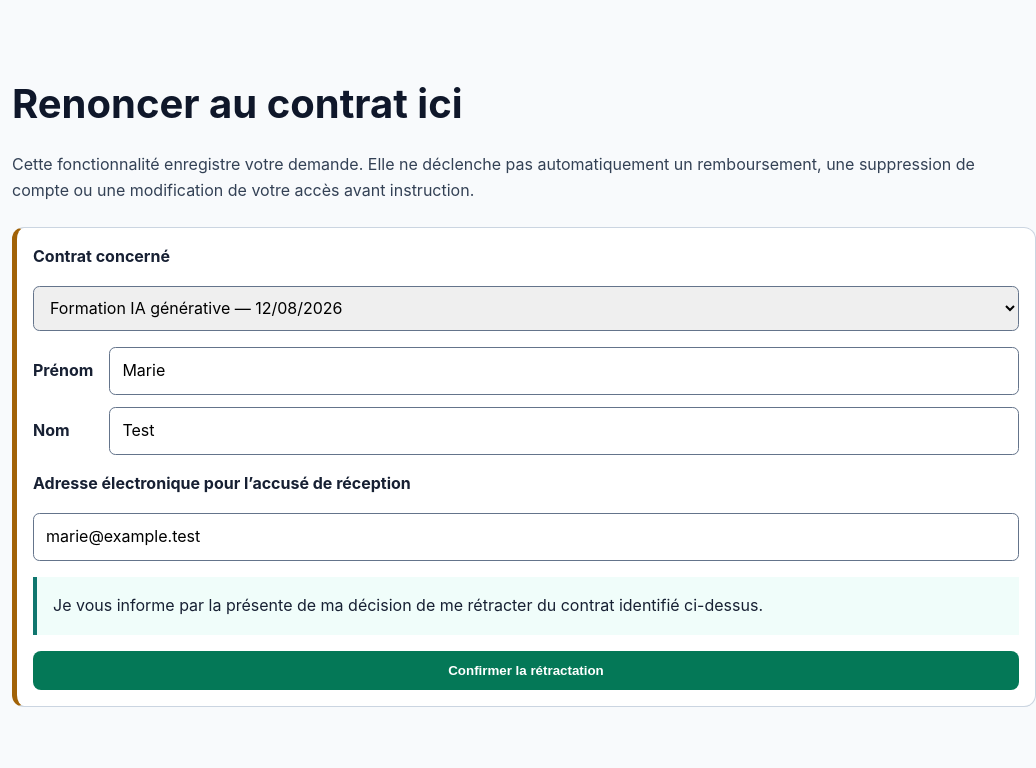
Scenario: rétractation électronique › ne fabrique pas un succès lorsque la fonction serveur échoue
Click the button "Confirmer la rétractation" at [526, 670], box top-left (33, 651), bottom-right (1019, 690)
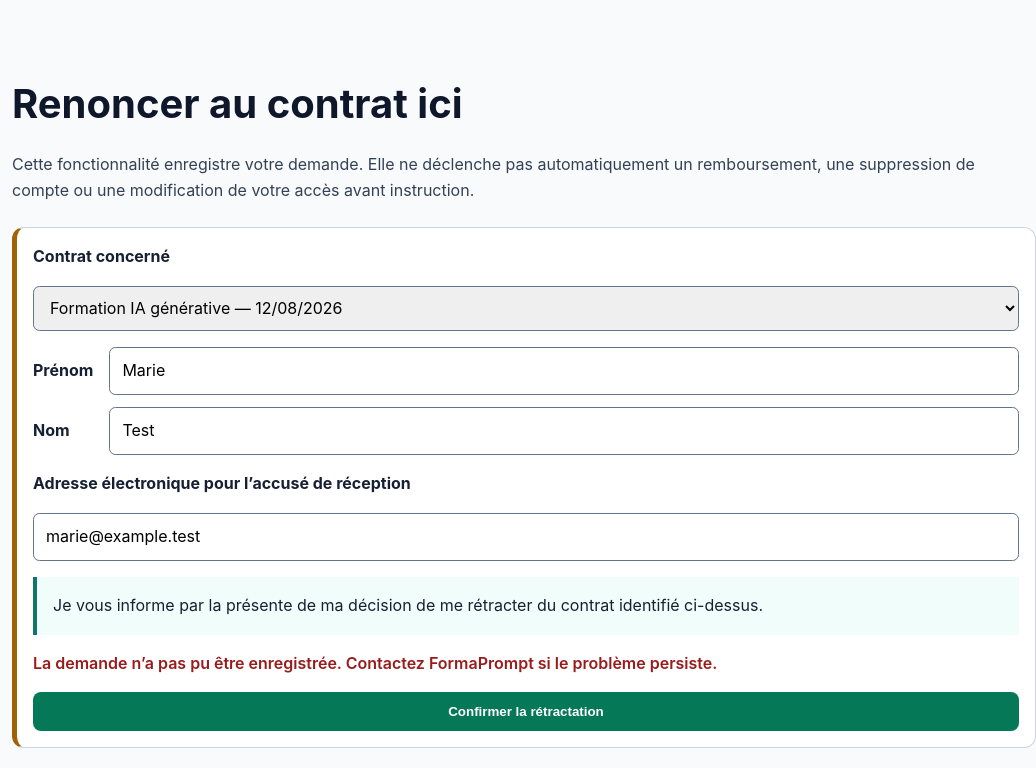
Expected: the message shows "n’a pas pu être enregistrée", top-left (33, 653), bottom-right (717, 673)
